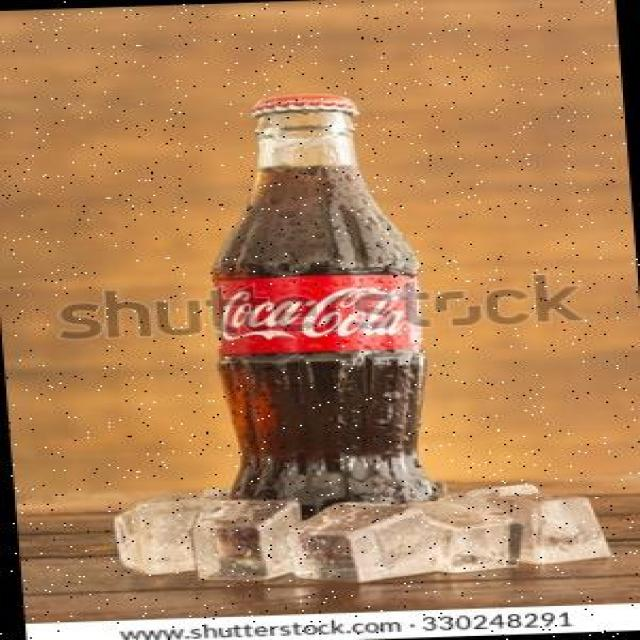coca-cola: (179, 86, 459, 550)
